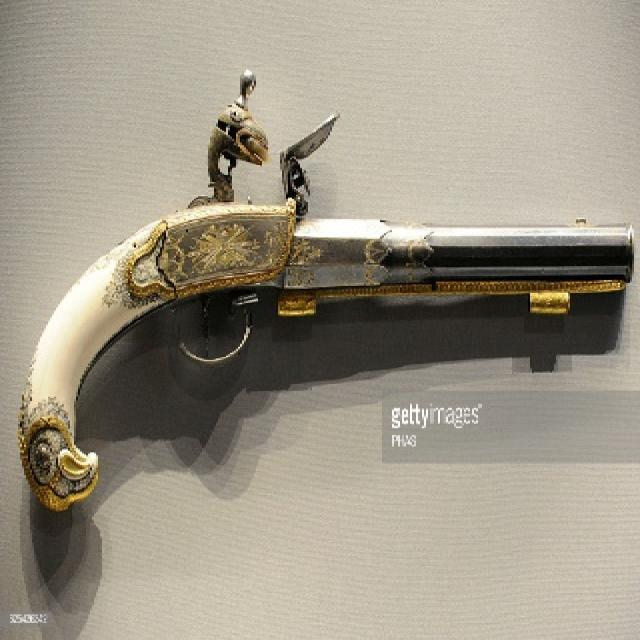handgun: (19, 56, 639, 526)
